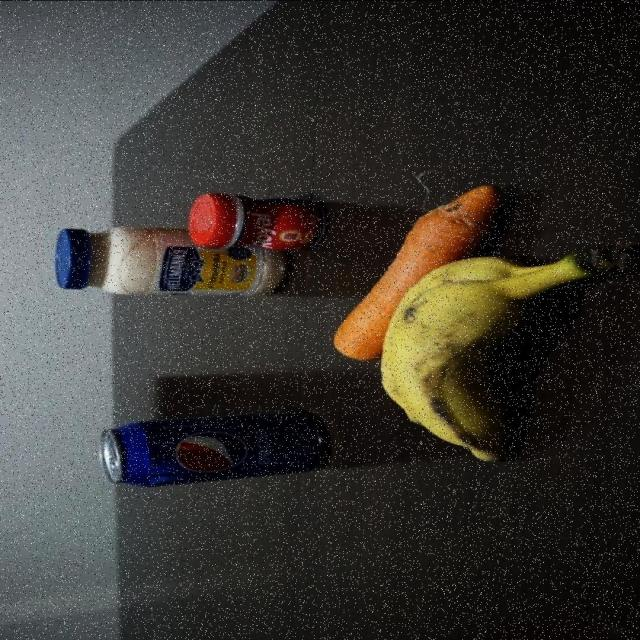Banana: (384, 245, 576, 460)
Carrot: (332, 182, 502, 358)
Mayonnaise: (50, 230, 293, 295)
SodaCan: (100, 405, 324, 489)
Yeast: (188, 193, 325, 250)
